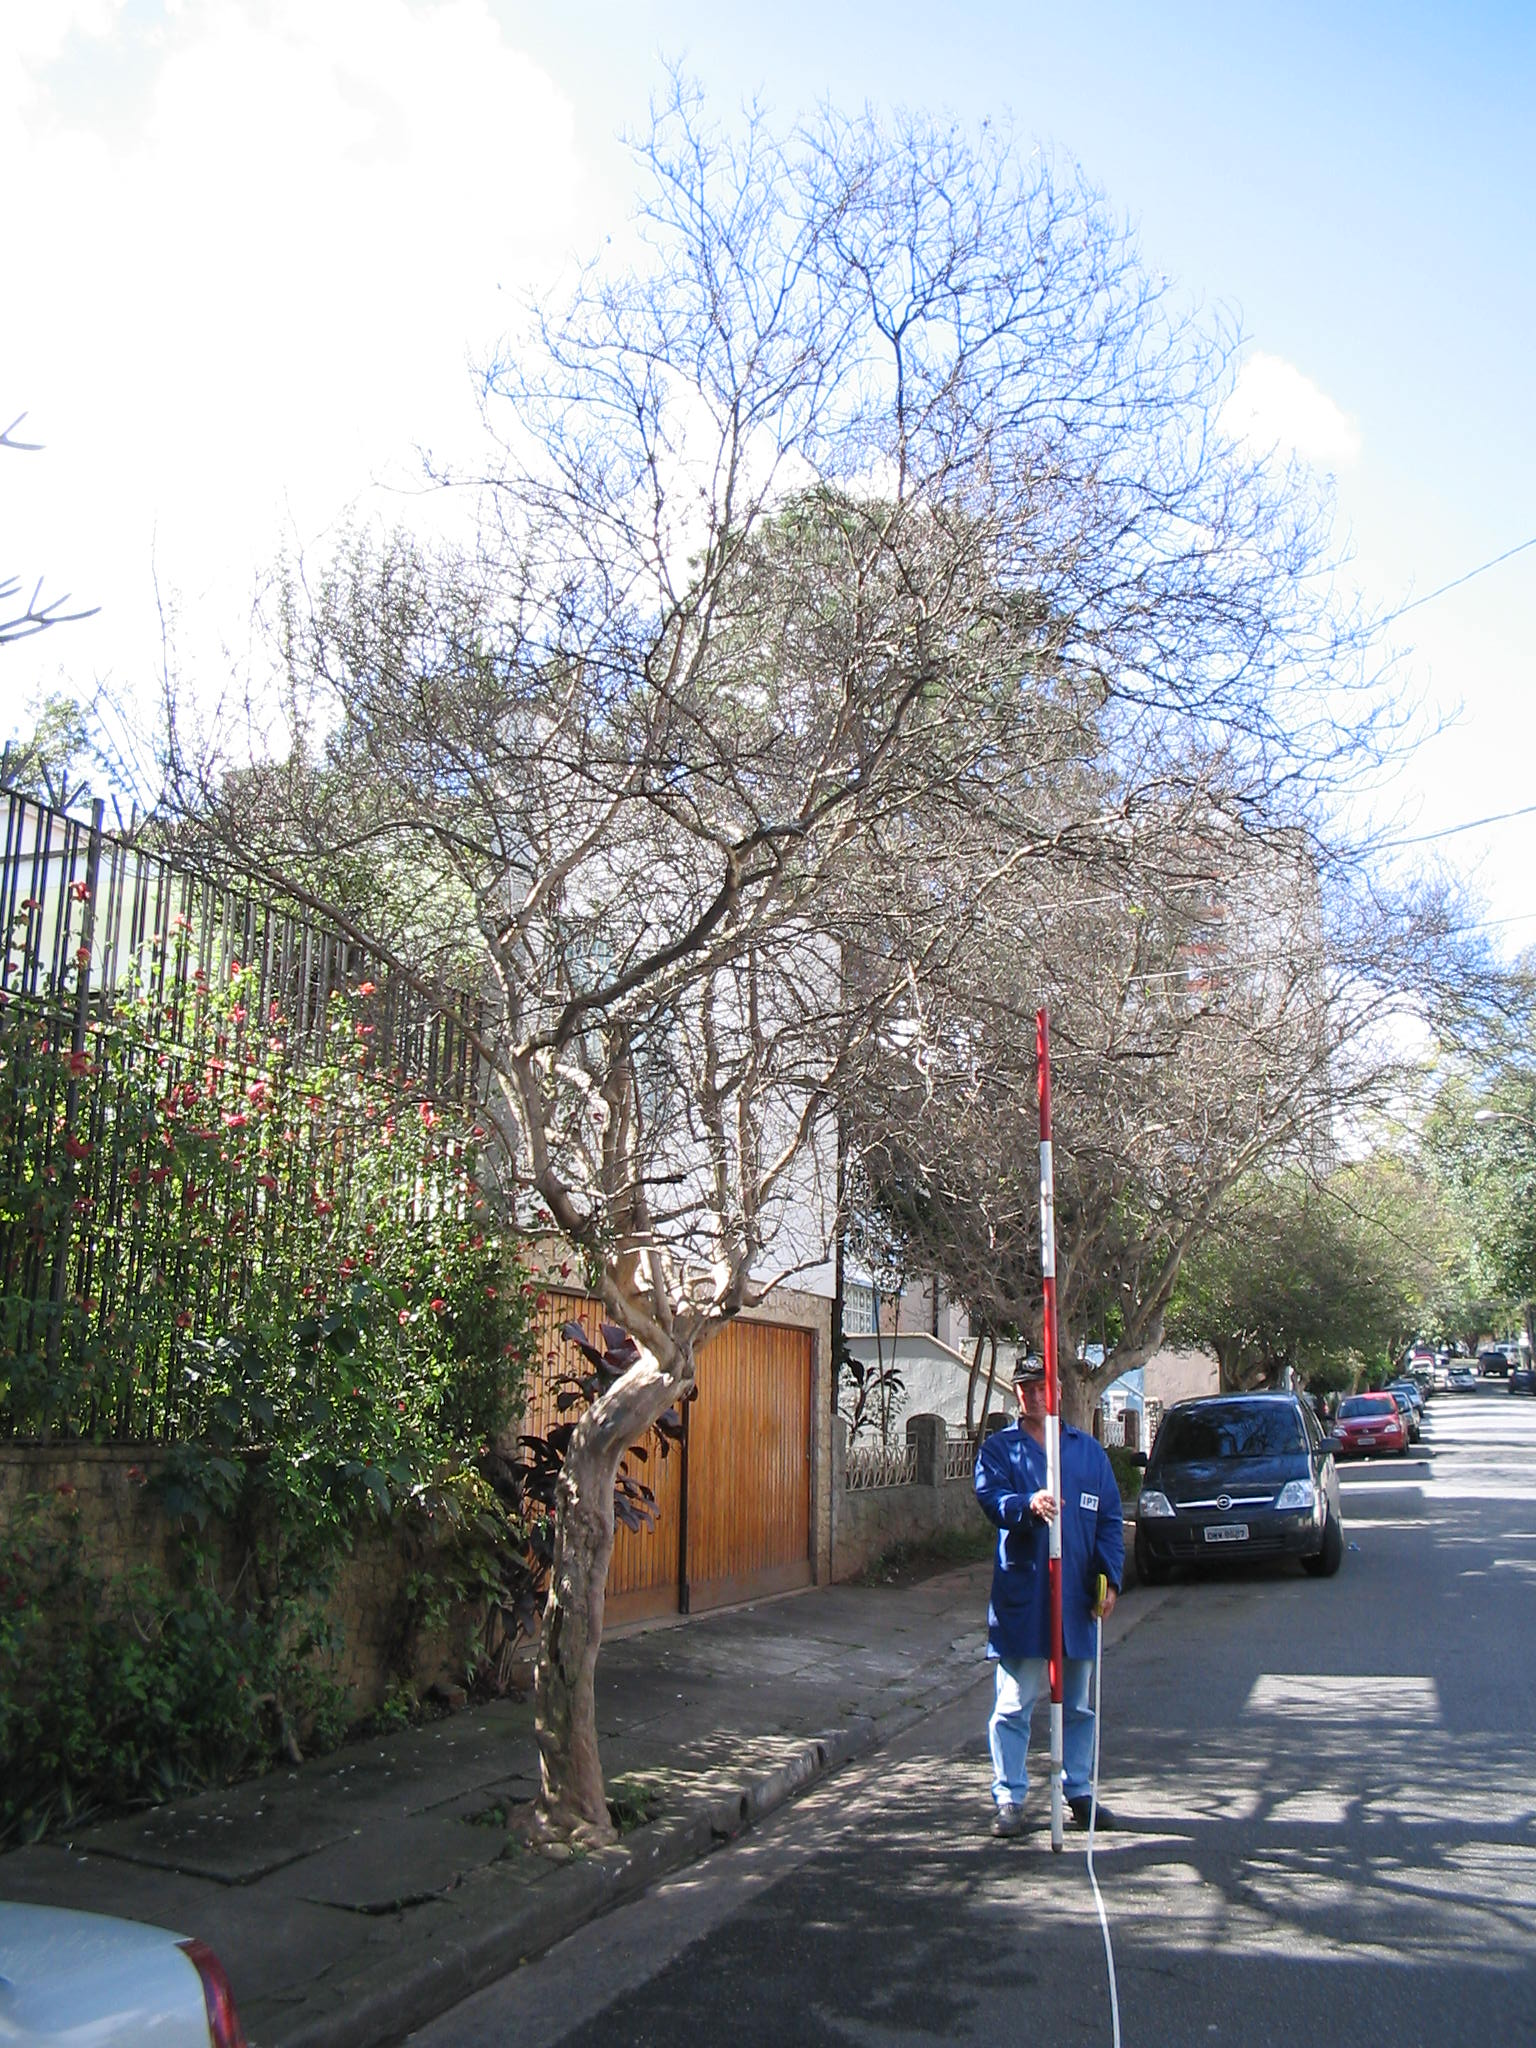stem: (465, 1353, 749, 1853)
stick: (1012, 1008, 1094, 1850)
tree: (144, 37, 1467, 1861)
